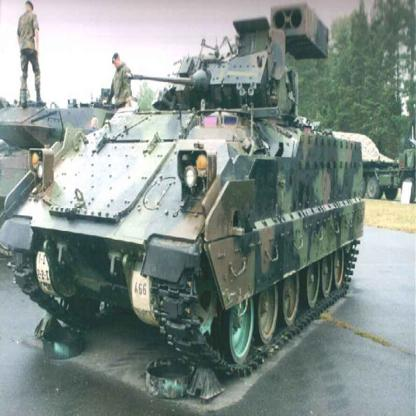Tank: (1, 8, 389, 381)
